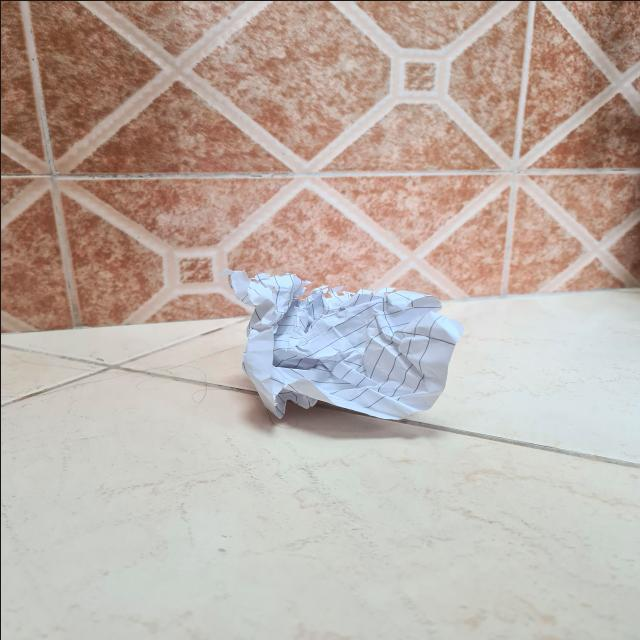Paper: (213, 263, 456, 429)
